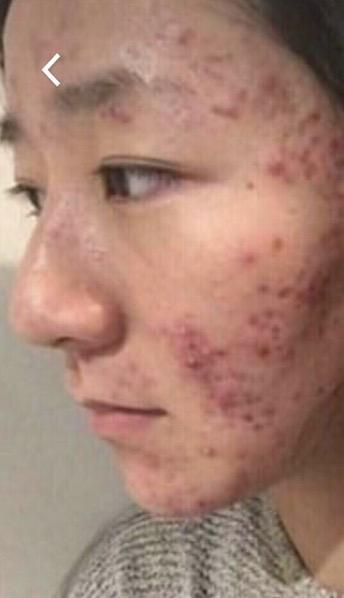fore: (177, 341, 204, 374), (277, 340, 306, 368), (196, 438, 225, 466), (200, 99, 235, 122), (239, 243, 261, 276), (228, 474, 258, 498), (228, 402, 253, 430), (263, 154, 286, 183), (299, 161, 326, 185), (311, 256, 334, 284), (291, 140, 316, 165), (253, 332, 273, 362), (270, 85, 292, 111), (234, 305, 258, 328), (261, 317, 286, 339), (245, 271, 267, 295), (296, 100, 319, 122), (322, 129, 342, 154), (249, 401, 278, 418), (190, 492, 212, 514), (229, 356, 245, 385), (103, 99, 125, 120), (304, 283, 326, 304), (171, 312, 194, 332), (274, 275, 295, 296), (229, 84, 254, 101), (265, 239, 290, 256), (174, 22, 194, 43), (322, 209, 336, 238), (200, 63, 218, 83), (204, 50, 225, 67), (266, 296, 279, 321), (312, 320, 328, 340), (196, 341, 217, 356), (271, 72, 290, 88)
